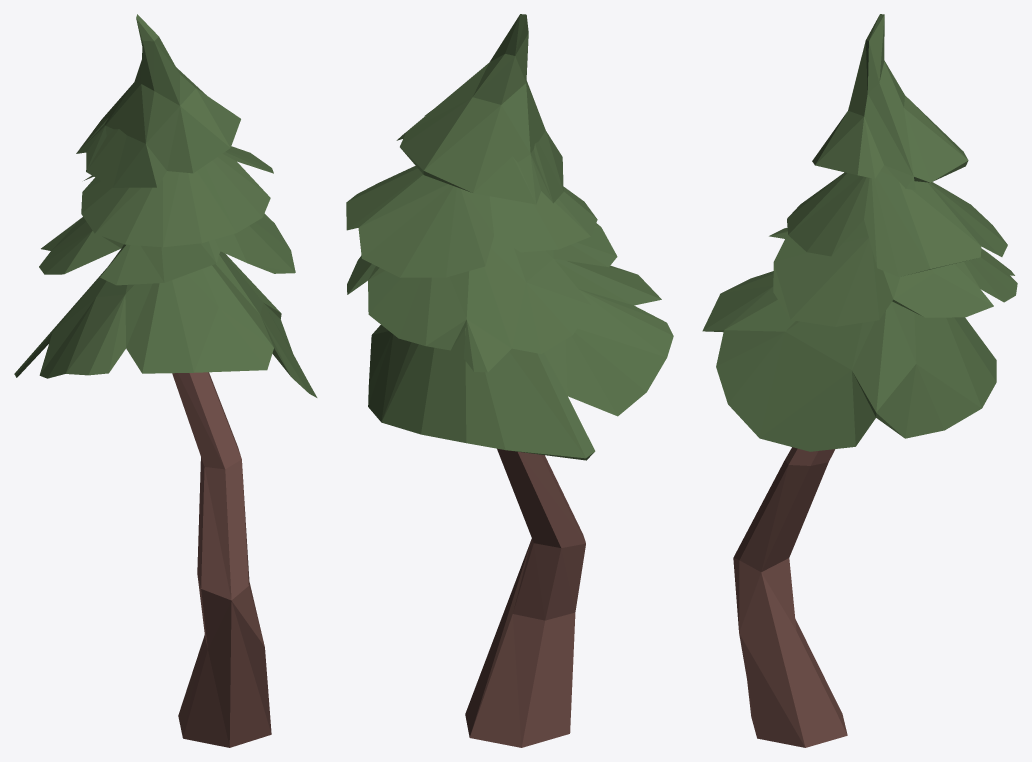
File: PineTree_4.lod2.glb
3 views of the same model, side by side, from view 1: azimuth 30°, elevation 25°; view 2: azimuth 150°, elevation 25°; view 3: azimuth 270°, elevation 25° (orthographic). The views are drawn at different scales.
Parts seen in each view (by area): view 1: PineTree_4; view 2: PineTree_4; view 3: PineTree_4.
Boxes of the visible parts, <box> form: PineTree_4: <box>14,14,317,747</box>; PineTree_4: <box>346,14,673,747</box>; PineTree_4: <box>702,14,1017,747</box>.
Size of the model in its own units: 1.24 by 3.35 by 1.39.
